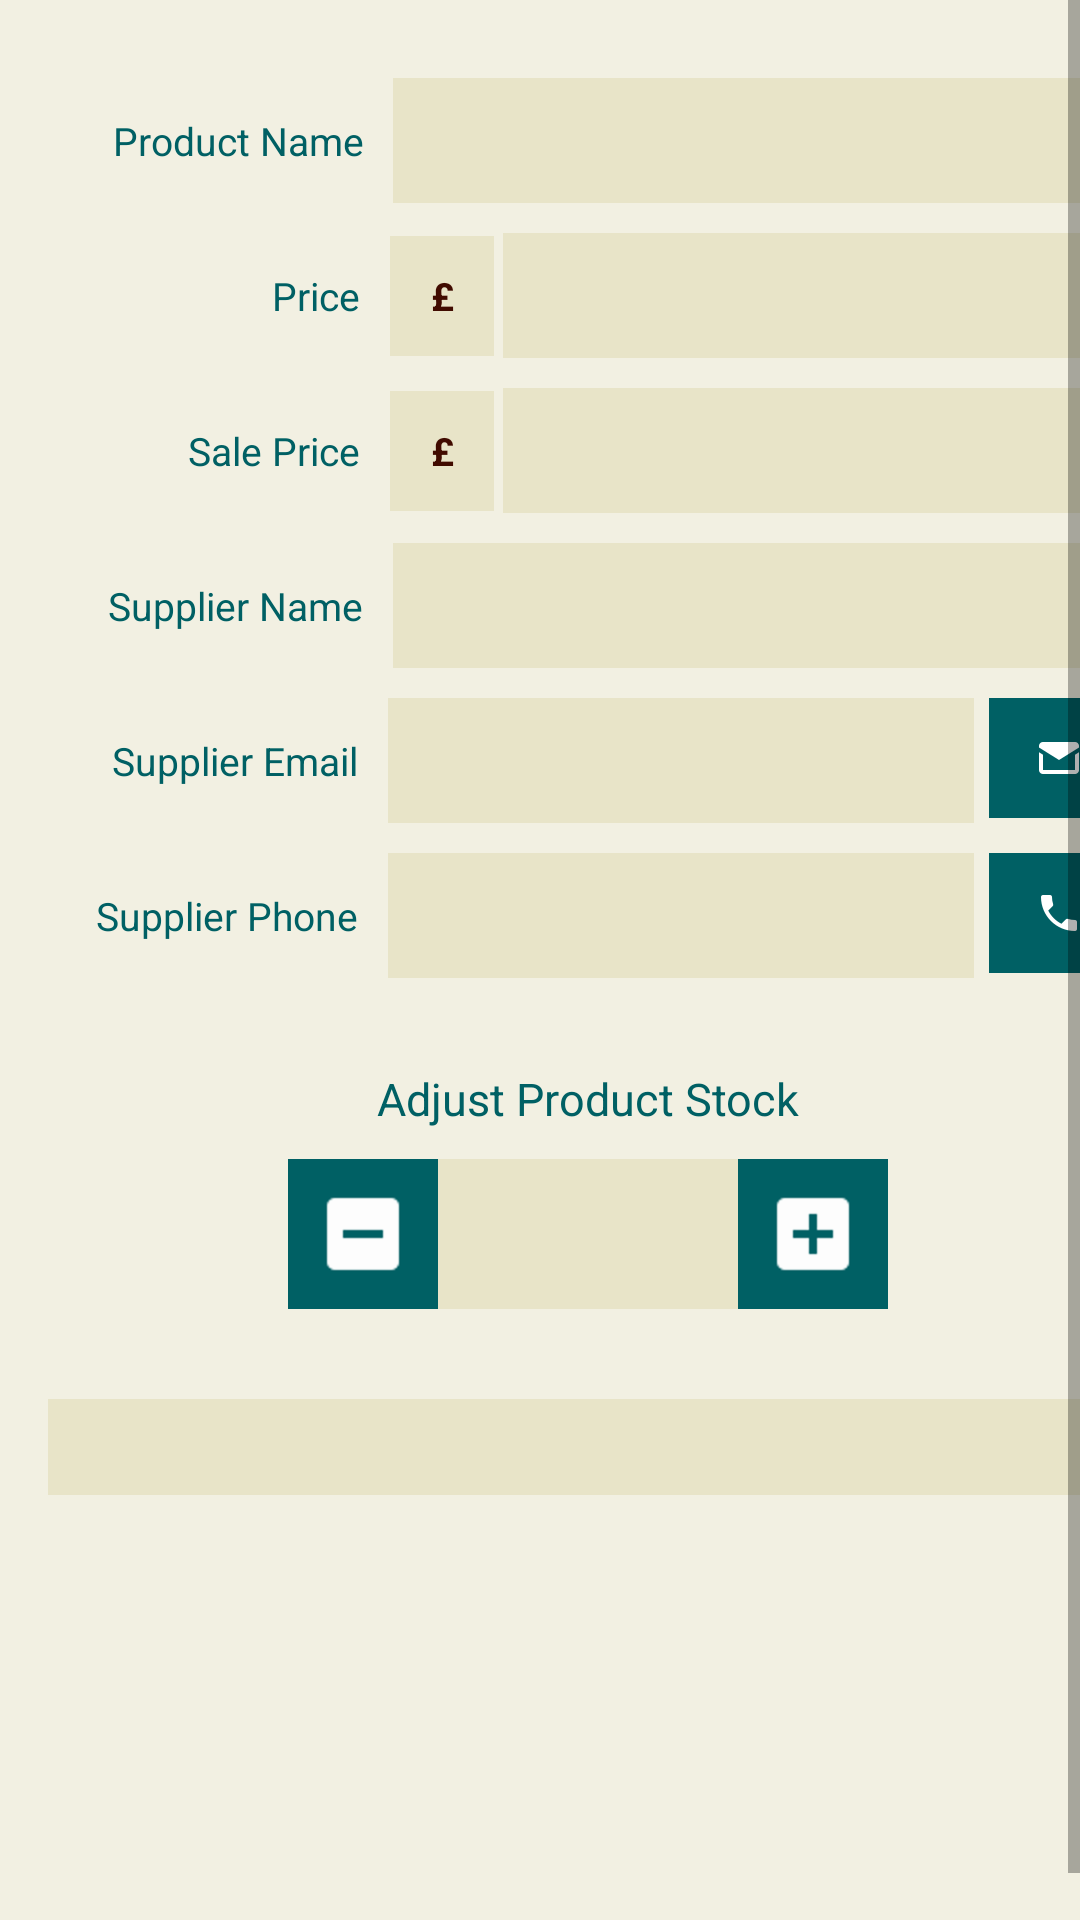

Icon click points for this 1080x1920 phone screenshot, format [x,y]:
minus box: [363,1234]
plus box: [813,1234]
